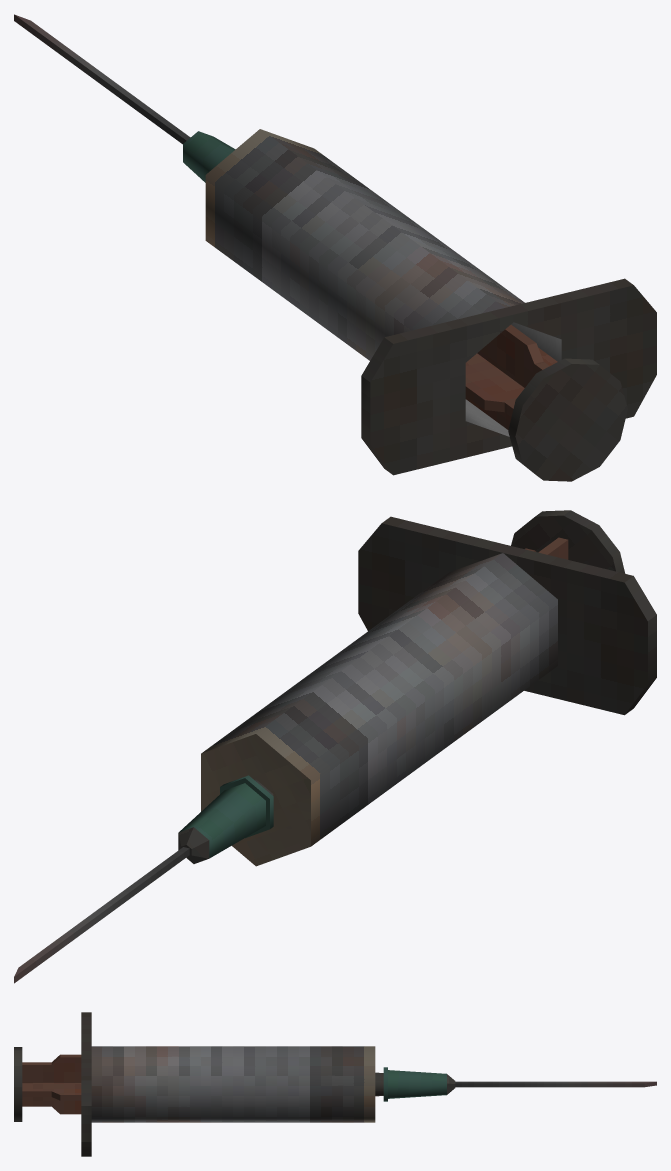
Rendered from syringe_mp_1_1.glb.
3 views of the same model, one above another, from view 1: azimuth 30°, elevation 25°; view 2: azimuth 150°, elevation 25°; view 3: azimuth 270°, elevation 25° (orthographic). The views are drawn at different scales.
Visible parts, largest first — view 1: syringe_mp_1_1; view 2: syringe_mp_1_1; view 3: syringe_mp_1_1.
Boxes of the visible parts, x1,y1,x2,y2 form: syringe_mp_1_1: [14, 14, 656, 481]; syringe_mp_1_1: [14, 510, 656, 983]; syringe_mp_1_1: [14, 1012, 656, 1156].
Bounding box in the file's own units: 0.0548 × 0.024 × 0.1836.
1 material, 1 textured.
